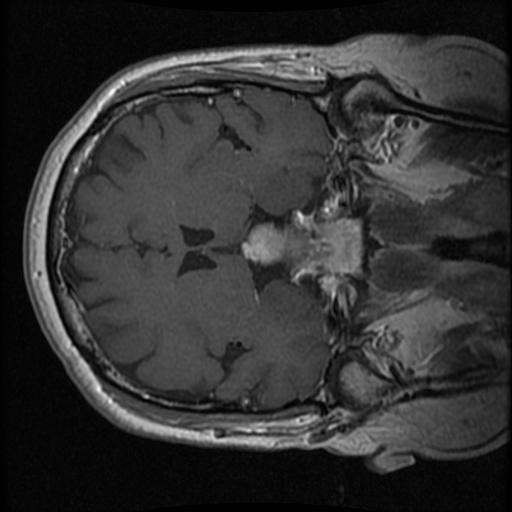pituitary tumour: (243, 212, 361, 274)
